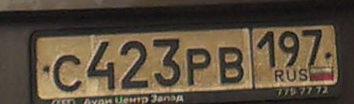character: (86, 36, 117, 92), (118, 37, 150, 90), (149, 37, 181, 89), (50, 52, 85, 94), (185, 46, 212, 88), (217, 46, 245, 85), (301, 25, 325, 67), (278, 30, 301, 68), (257, 31, 277, 69)
